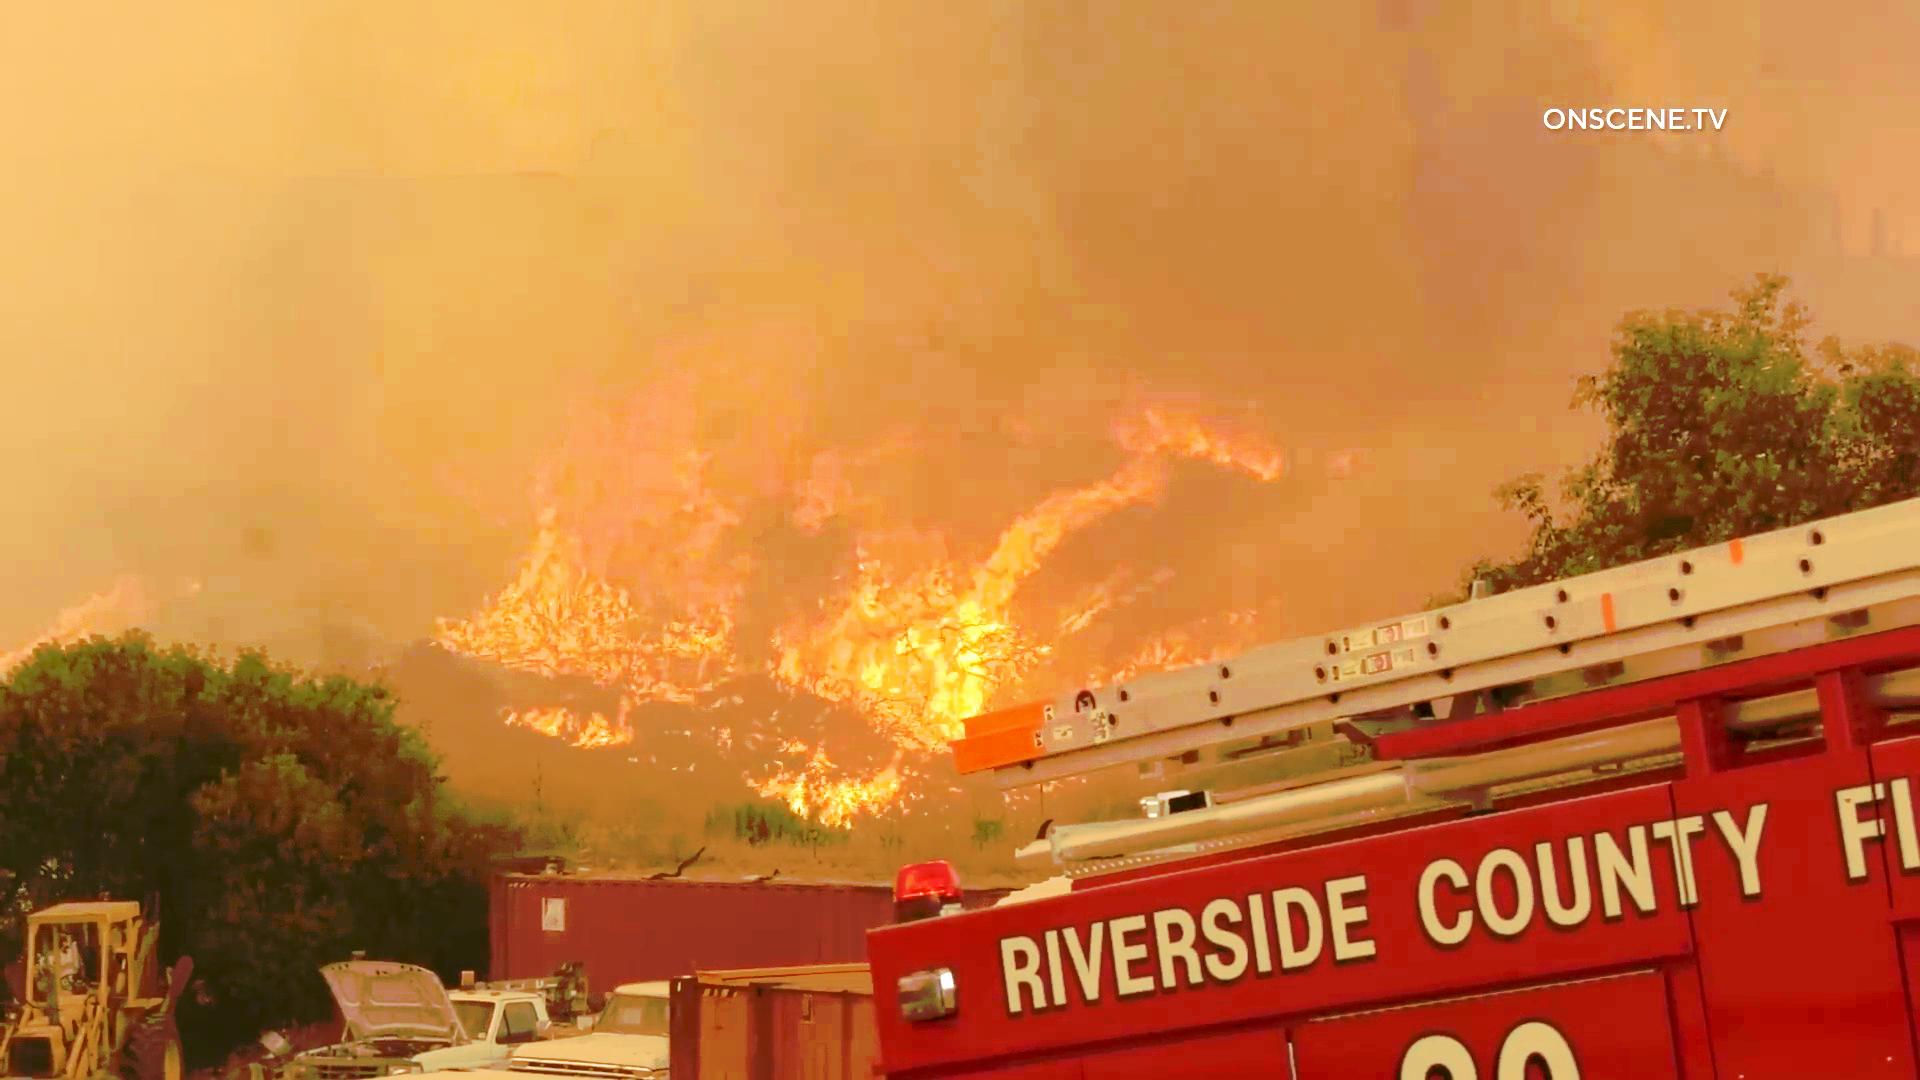fire: (516, 301, 1000, 839)
